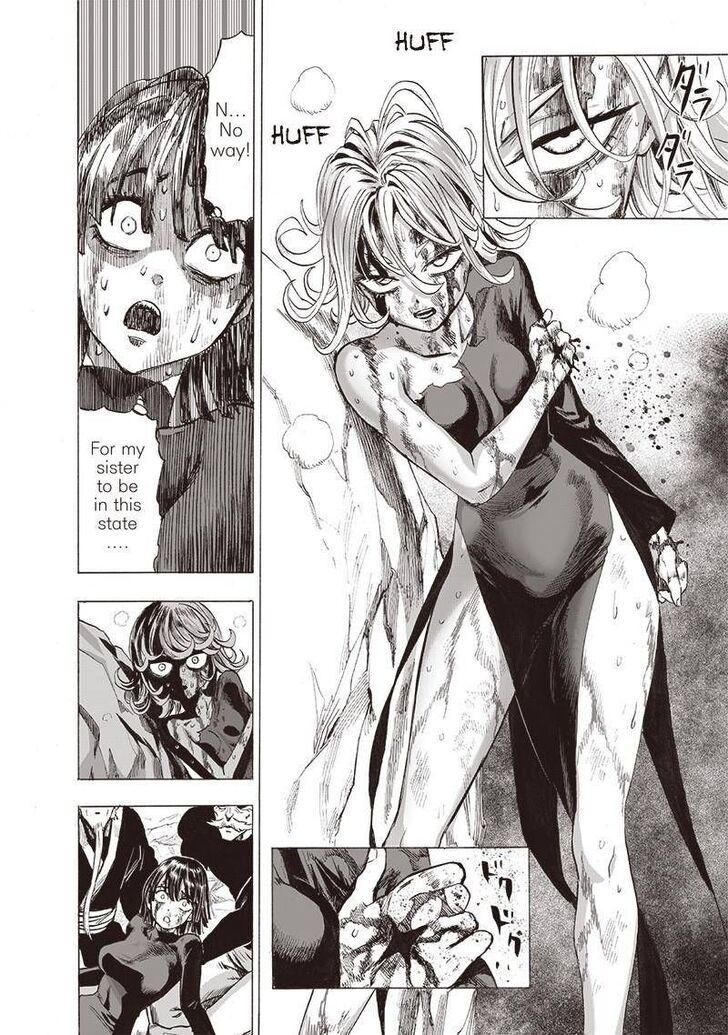Bubble: (77, 402, 167, 574), (198, 28, 256, 224)
